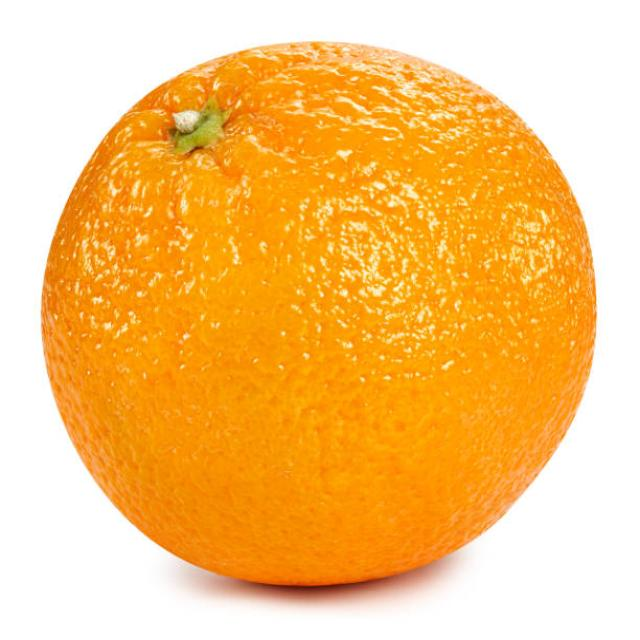Ripe: (38, 37, 603, 591)
